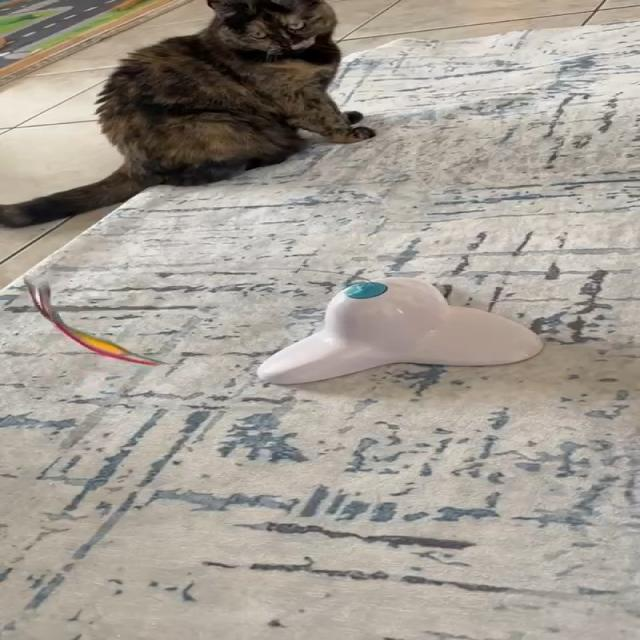authorized: (0, 0, 376, 229)
